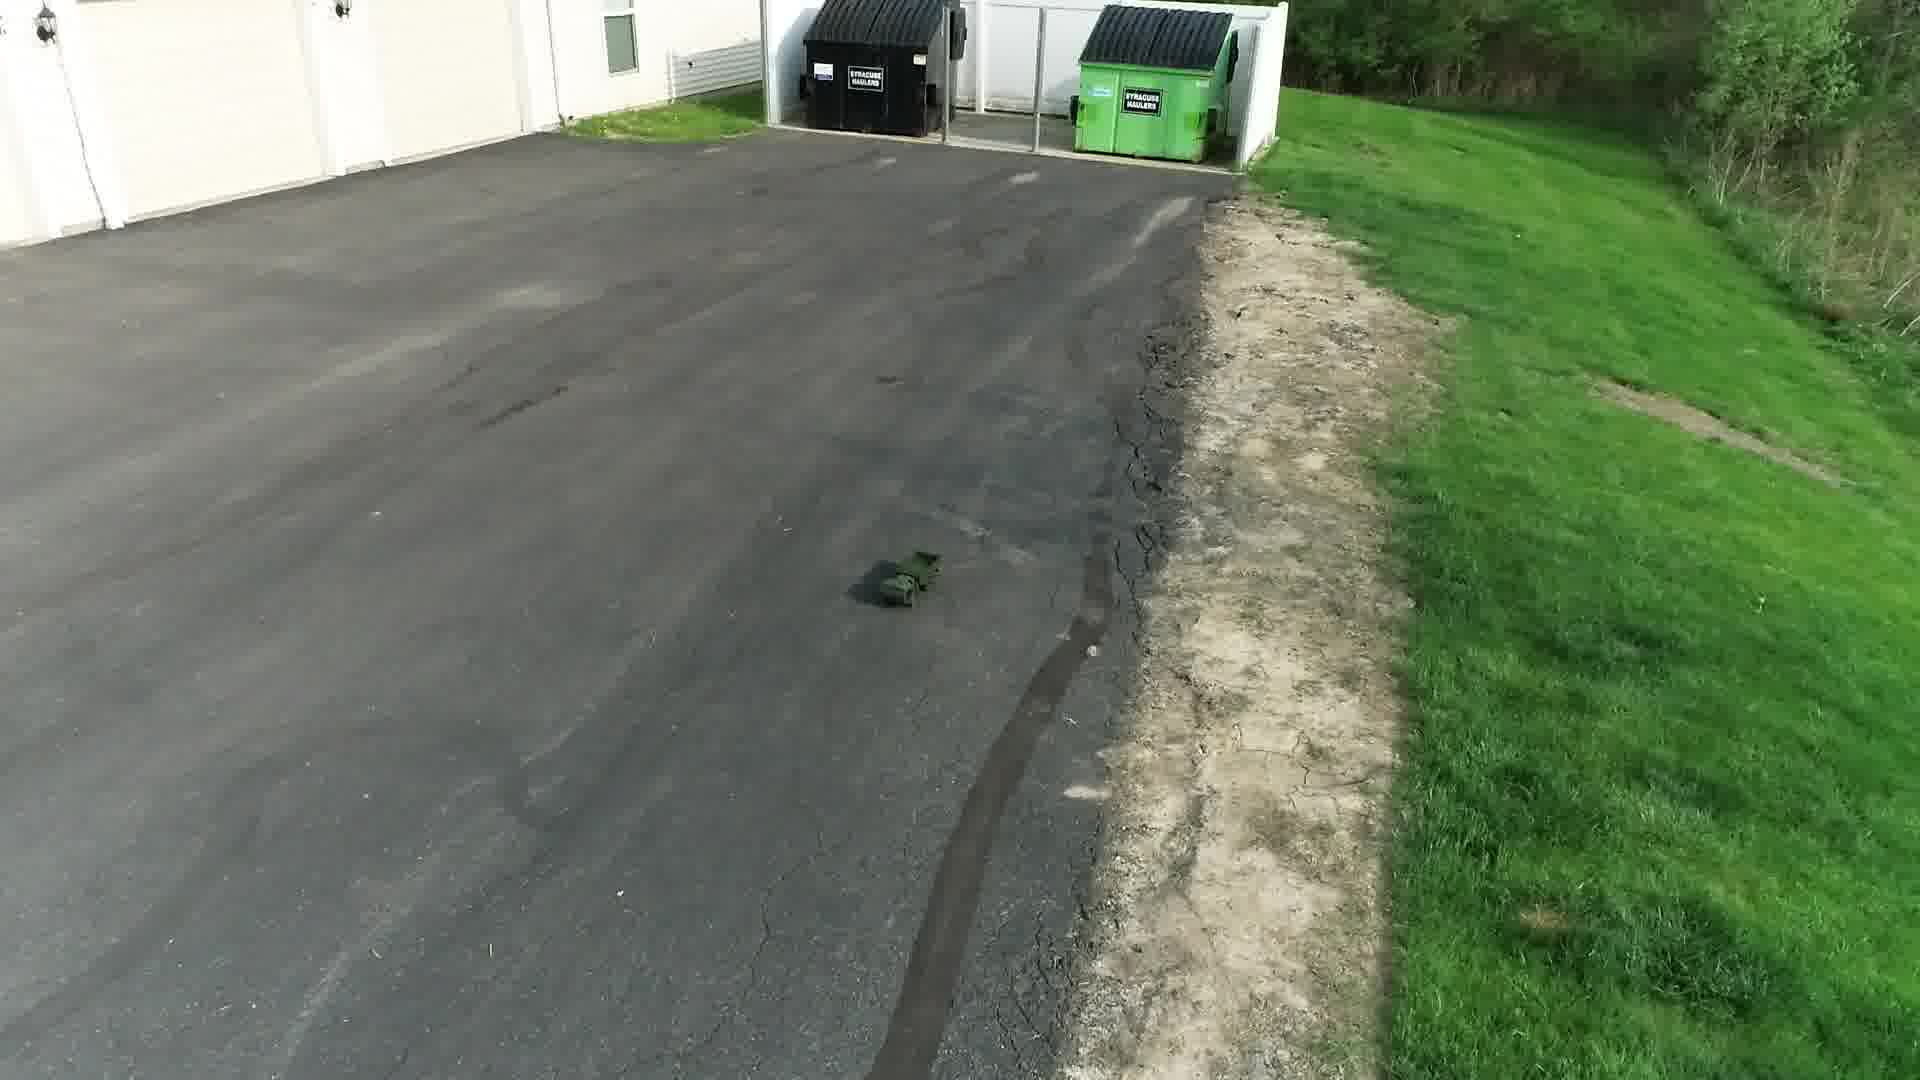transporter9: (869, 549, 947, 611)
